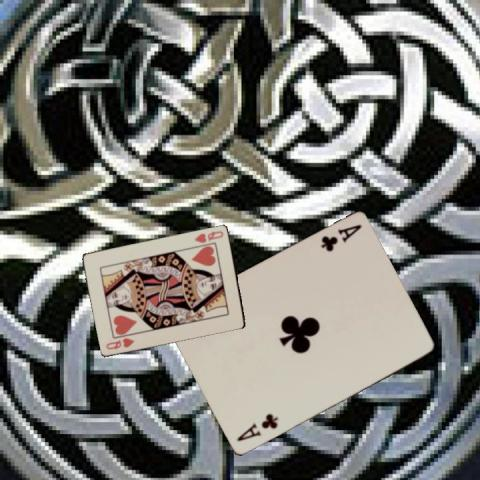Ac: (234, 411, 280, 443), (318, 222, 363, 254)
Qh: (192, 227, 225, 244), (103, 334, 136, 350)
